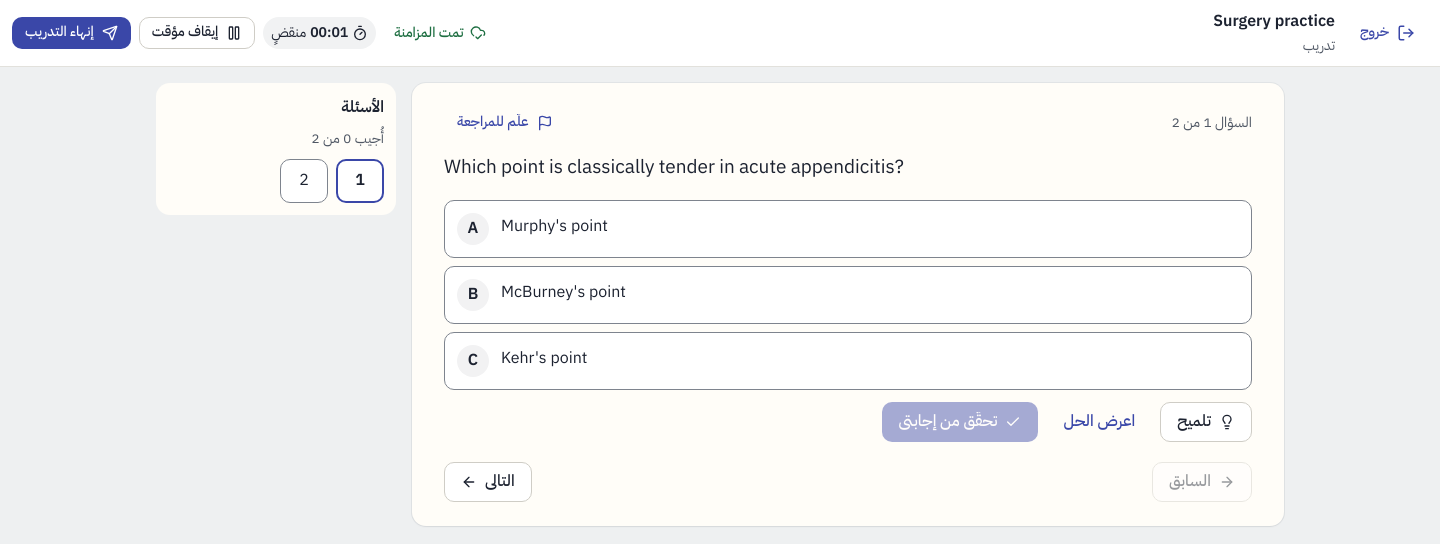
it: practice runner › pause hides the question and stops the clock; resume shows it again; the clock counts active time
The width and height of the screenshot is (1440, 544).
Check: the text "السؤال 1 من 2" is shown, box [1171,111,1252,134]
Check: the text "00:01" is shown, box [310,22,348,43]
Click the button "إيقاف مؤقت".
click(197, 33)  # box [139,17,255,49]
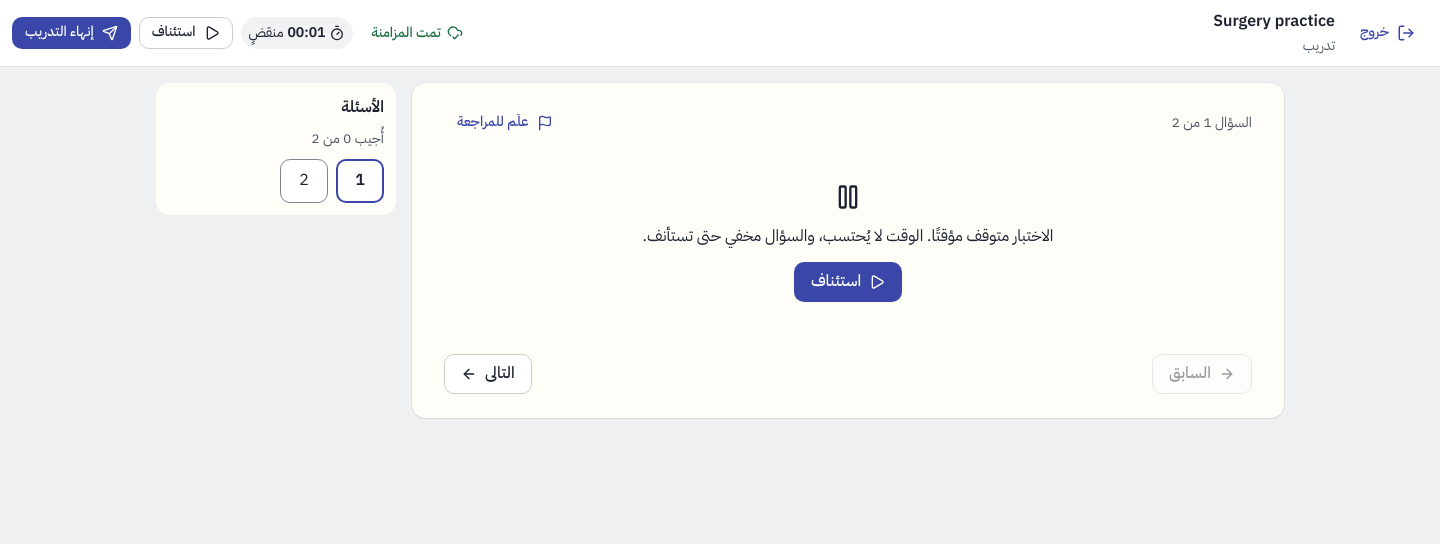
Check: the text "الاختبار متوقف مؤقتًا" is shown, box [643,224,1053,248]
Check: the radio button labelled "McBurney" is gone
Click the button "استئناف" next to "منقضٍ".
click(186, 33)  # box [139,17,232,49]
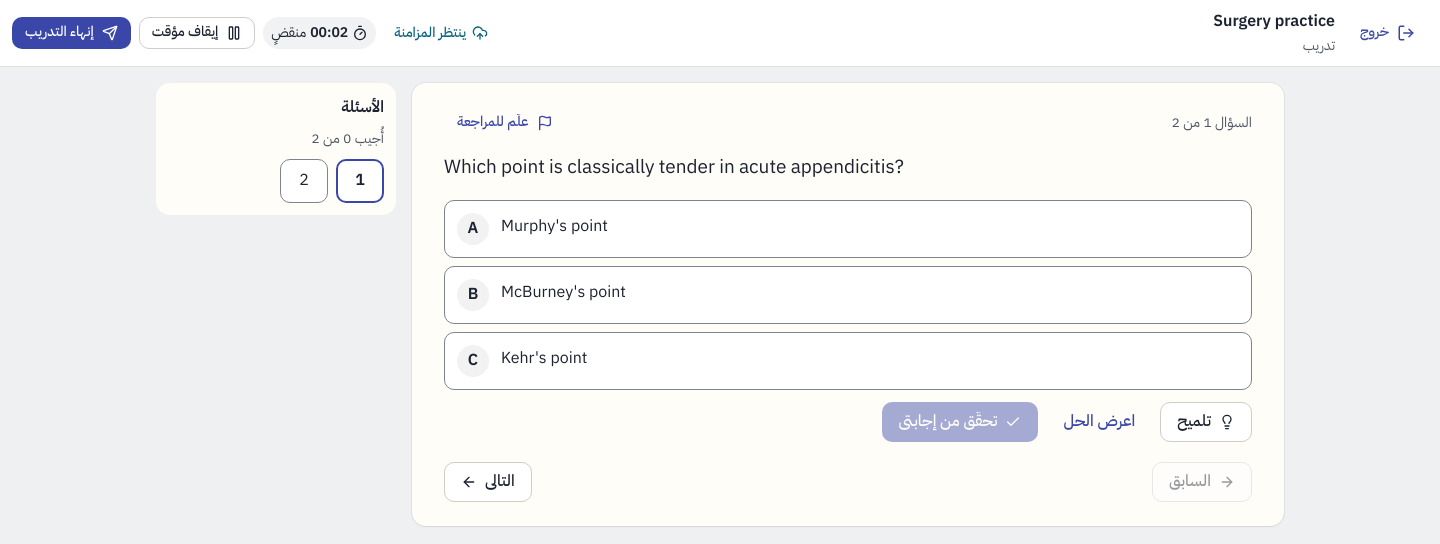
Check: the radio button labelled "B McBurney's point" is shown, box [444,266,1252,324]
